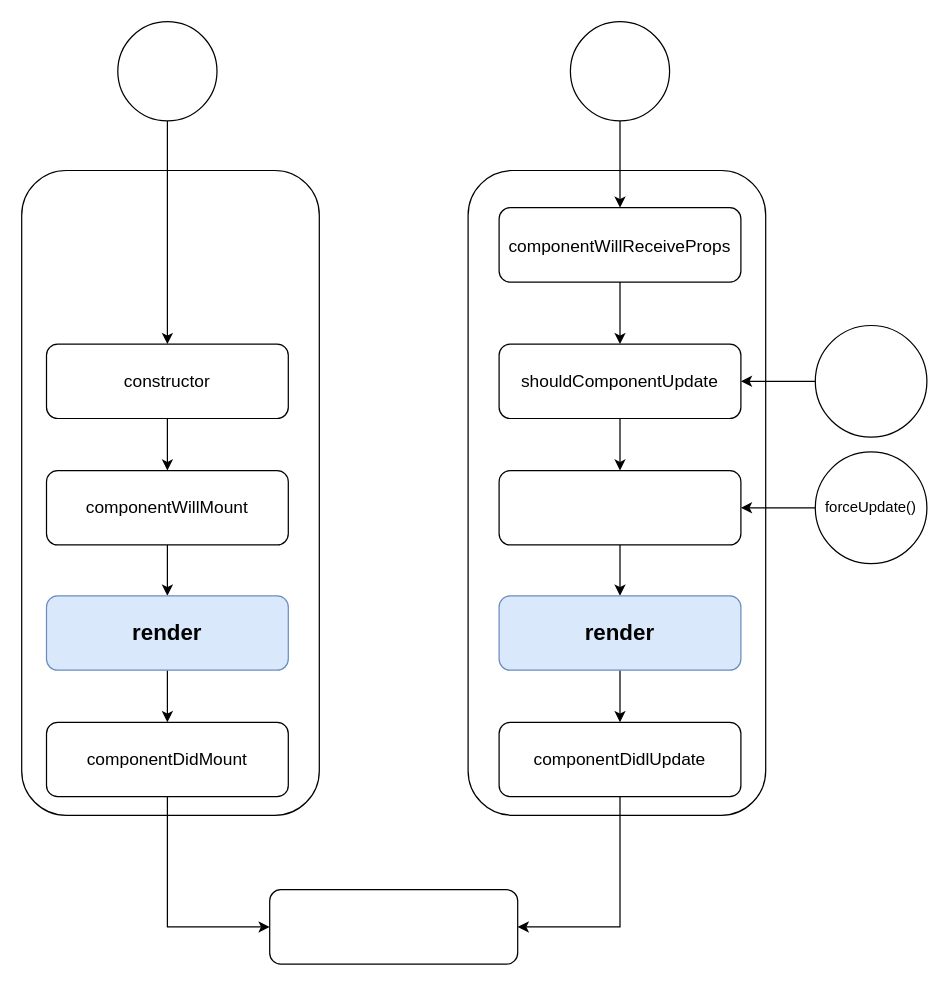
Some shapes in this 949 by 986 pixel diagram are drawn without their labels. The shapes that lost their labels are listed below. From the top down, each one's centre as x and y in pixels, then its label:
pixel 167 70: 组件挂载
pixel 619 70: 父组件渲染
pixel 870 380: setState()
pixel 619 507: componentWillUpdate
pixel 393 926: componentWillUnmount
